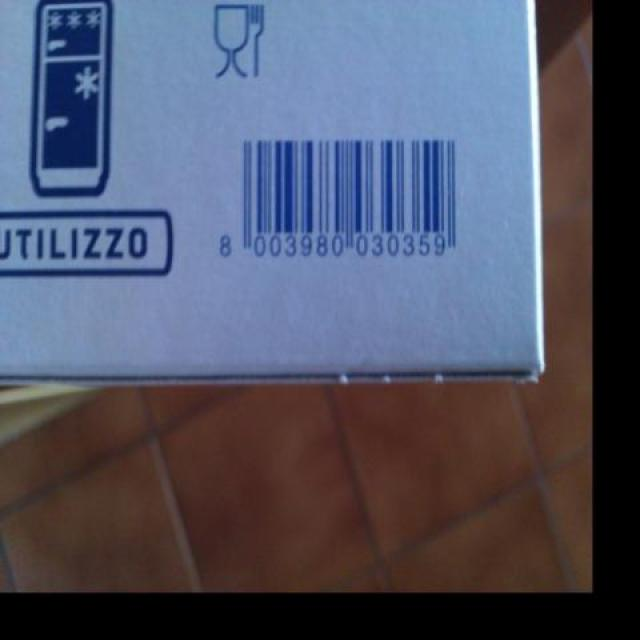Barcode: (210, 126, 474, 275)
